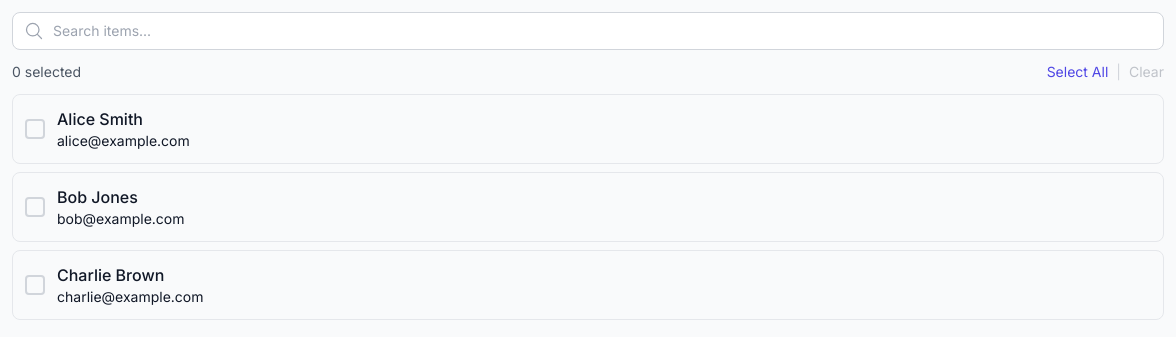
Test: ScrollableListPicker › shows empty message when no items match filter
In the search field with placeholder "Search items...": [588, 31] box [12,12,1164,50], type "zzznomatch"
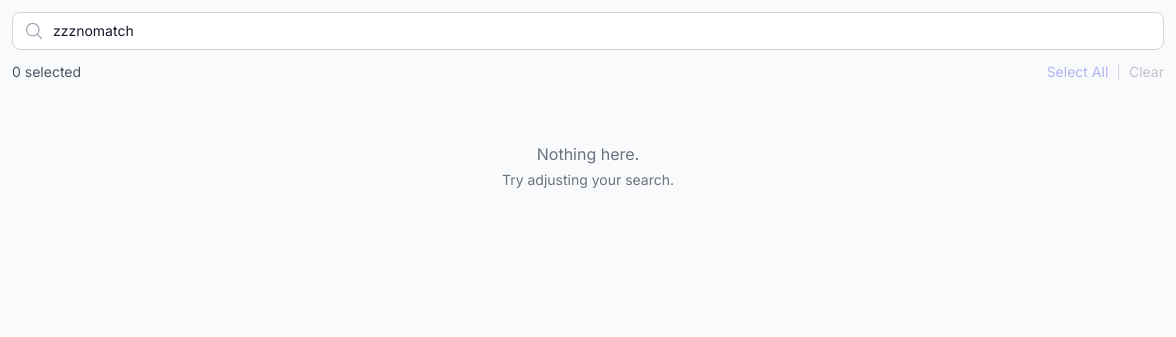
Check: the text "Nothing here." is shown, box [537,144,639,164]
